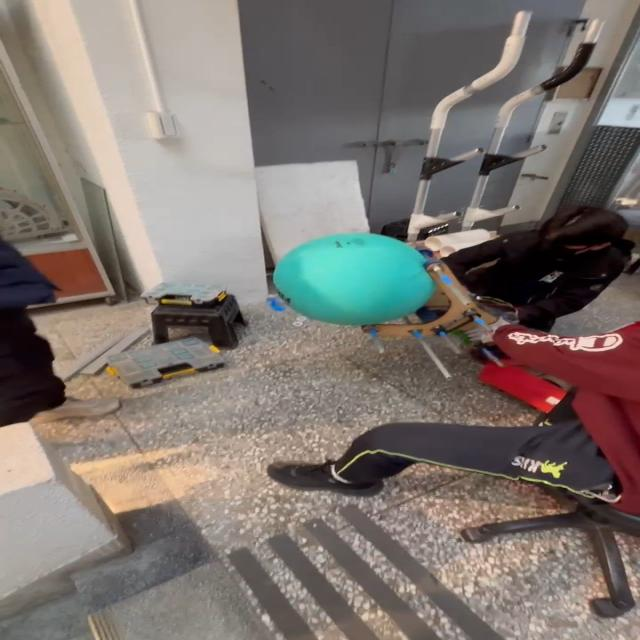ALGAE: (270, 231, 438, 327)
